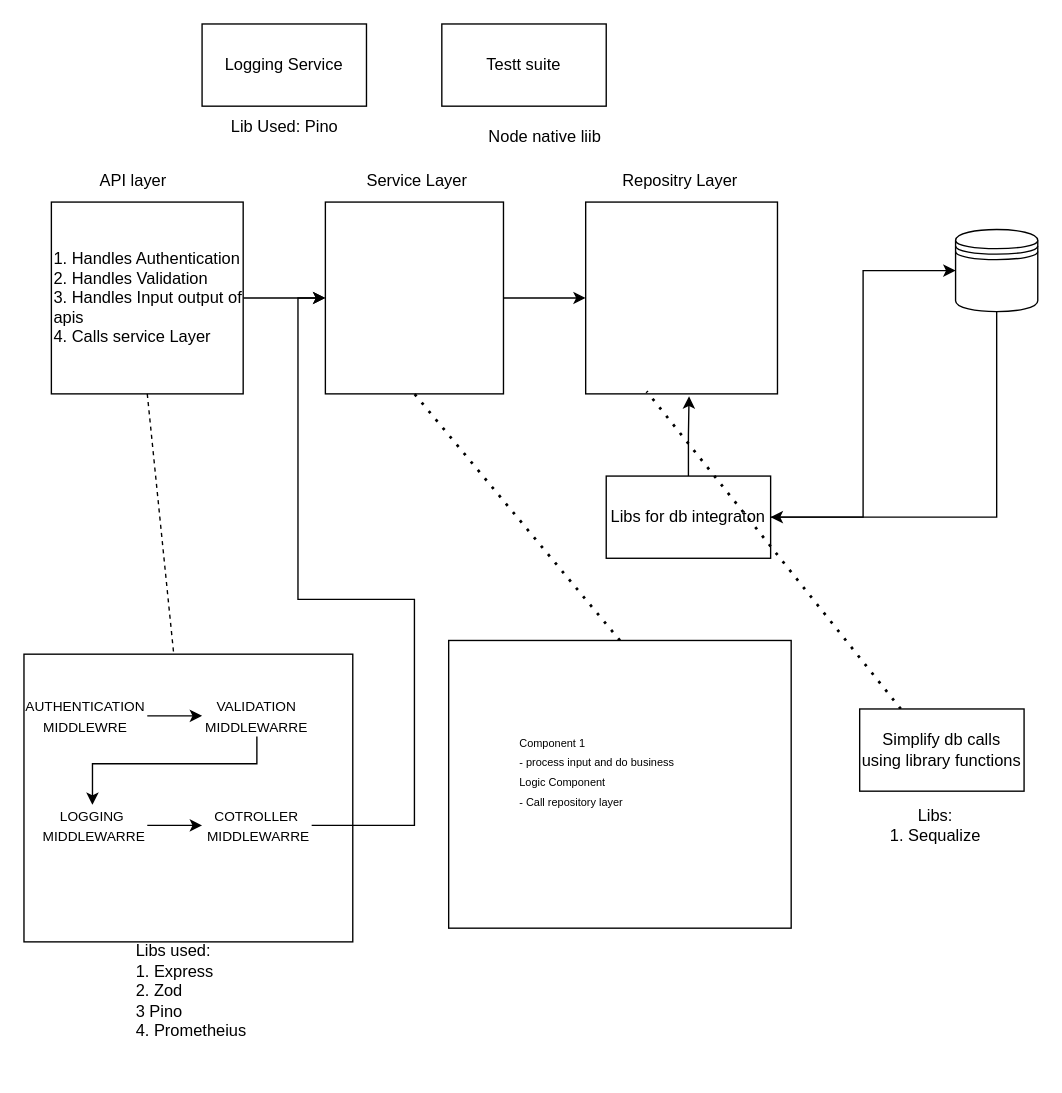
Some shapes in this 1062 by 1093 pixel diagram are drawn without their labels. The shapes that lost their labels are listed below. From the top down, each one's centre as x and y in pixels, then its label:
At pixel 996 270: "DB".
At pixel 413 297: "1. Handles Business Logic 2. Calls repository layer for db interactions".
At pixel 680 297: "1. Handles feching and write to database".
